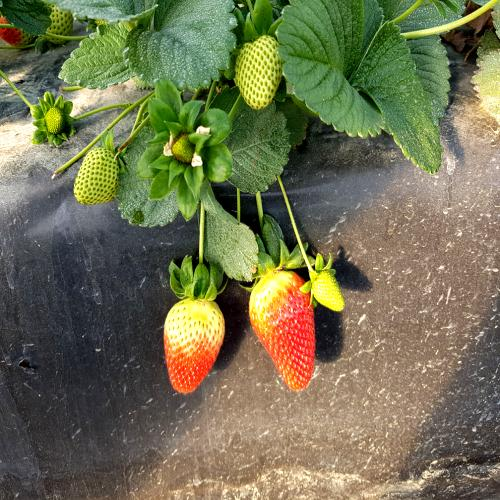partially-ripe: (241, 258, 322, 400), (150, 274, 234, 409)
